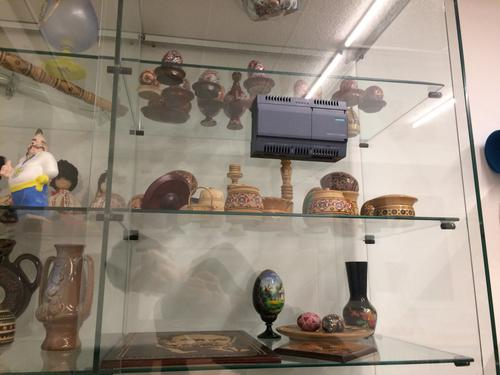iot2000: (250, 94, 349, 165)
